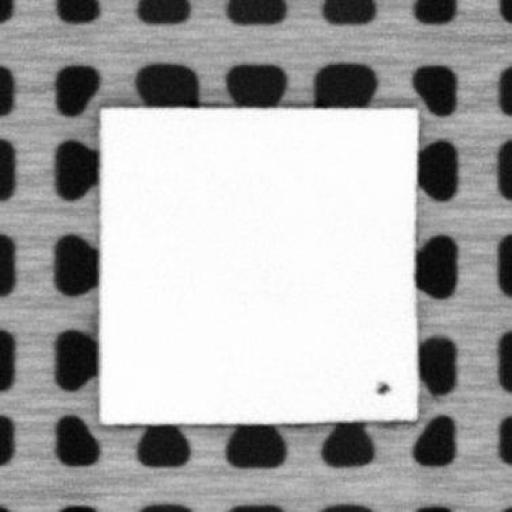DIE_INK: (373, 378, 390, 396)
